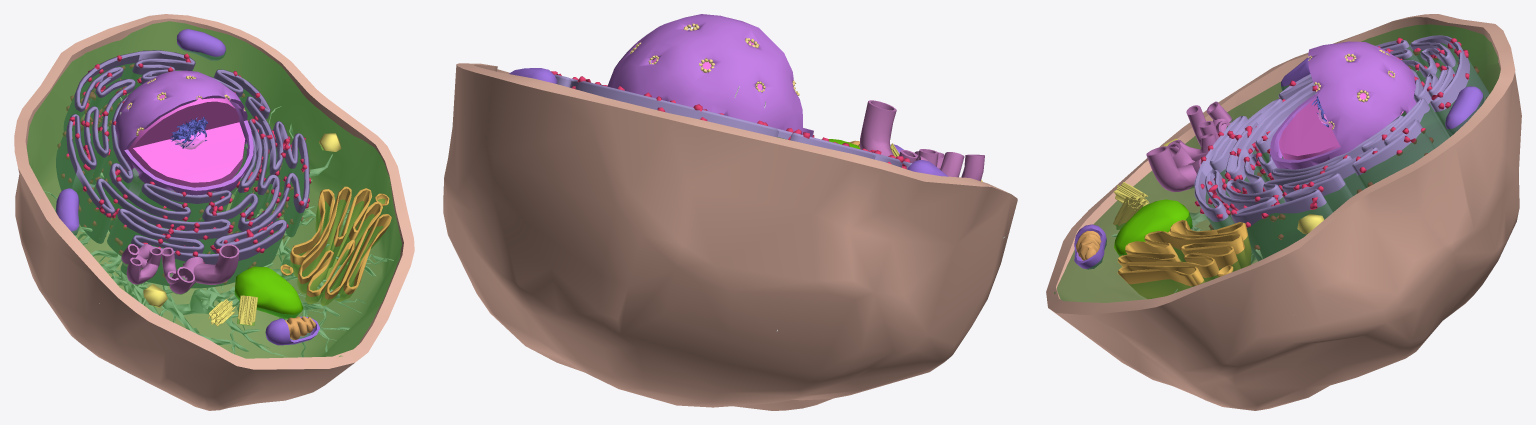
The model's file is modelo-ligero.glb.
The picture shows the model from 3 angles, left to right: view 1: azimuth 30°, elevation 25°; view 2: azimuth 150°, elevation 25°; view 3: azimuth 270°, elevation 25°; orthographic projection. The views are drawn at different scales.
Parts seen in each view (by area): view 1: Nulo__Material_0, citoplasma_remesh_Material.004_0, Nulo__Material.005_0, Nulo__Material.006_0, Nulo__Material.010_0, Nulo__Material.001_0, Nulo__Material.013_0, Nulo__Material.018_0, Nulo__Material.026_0, Nulo__Material.008_0, Nulo__Material.1_0, Nulo__Material.025_0 (+2 smaller); view 2: Nulo__Material_0, Nulo__Material.001_0, Nulo__Material.005_0, Nulo__Material.026_0, Nulo__Material.008_0, Nulo__Material.018_0, Nulo__Material.003_0; view 3: Nulo__Material_0, Nulo__Material.005_0, citoplasma_remesh_Material.004_0, Nulo__Material.001_0, Nulo__Material.006_0, Nulo__Material.026_0, Nulo__Material.018_0, Nulo__Material.010_0, Nulo__Material.008_0, Nulo__Material.1_0, Nulo__Material.025_0, Nulo__Material.007_0.
Boxes of the visible parts, <box> form: Nulo__Material_0: <box>14,14,414,410</box>; citoplasma_remesh_Material.004_0: <box>27,21,401,358</box>; Nulo__Material.005_0: <box>56,50,309,287</box>; Nulo__Material.006_0: <box>280,186,391,305</box>; Nulo__Material.010_0: <box>128,94,245,187</box>; Nulo__Material.001_0: <box>115,70,253,195</box>; Nulo__Material.013_0: <box>44,94,393,356</box>; Nulo__Material.018_0: <box>57,53,311,284</box>; Nulo__Material.026_0: <box>121,244,239,294</box>; Nulo__Material.008_0: <box>56,29,319,345</box>; Nulo__Material.1_0: <box>235,266,303,318</box>; Nulo__Material.025_0: <box>143,133,341,326</box>; Nulo__Material_0: <box>443,63,1017,410</box>; Nulo__Material.001_0: <box>607,14,813,137</box>; Nulo__Material.005_0: <box>554,74,911,168</box>; Nulo__Material.026_0: <box>860,100,984,181</box>; Nulo__Material.008_0: <box>509,68,948,176</box>; Nulo__Material.018_0: <box>551,71,910,169</box>; Nulo__Material.003_0: <box>630,23,799,95</box>; Nulo__Material_0: <box>1046,14,1521,410</box>; Nulo__Material.005_0: <box>1194,35,1488,261</box>; citoplasma_remesh_Material.004_0: <box>1054,24,1500,302</box>; Nulo__Material.001_0: <box>1270,41,1416,169</box>; Nulo__Material.006_0: <box>1117,220,1251,298</box>; Nulo__Material.026_0: <box>1146,101,1232,192</box>; Nulo__Material.018_0: <box>1194,37,1486,249</box>; Nulo__Material.010_0: <box>1279,56,1403,159</box>; Nulo__Material.008_0: <box>1074,57,1483,269</box>; Nulo__Material.1_0: <box>1114,199,1192,256</box>; Nulo__Material.025_0: <box>1113,138,1324,234</box>; Nulo__Material.007_0: <box>1076,231,1101,260</box>.
Bounding box in the file's own units: 596 × 477 × 626.
